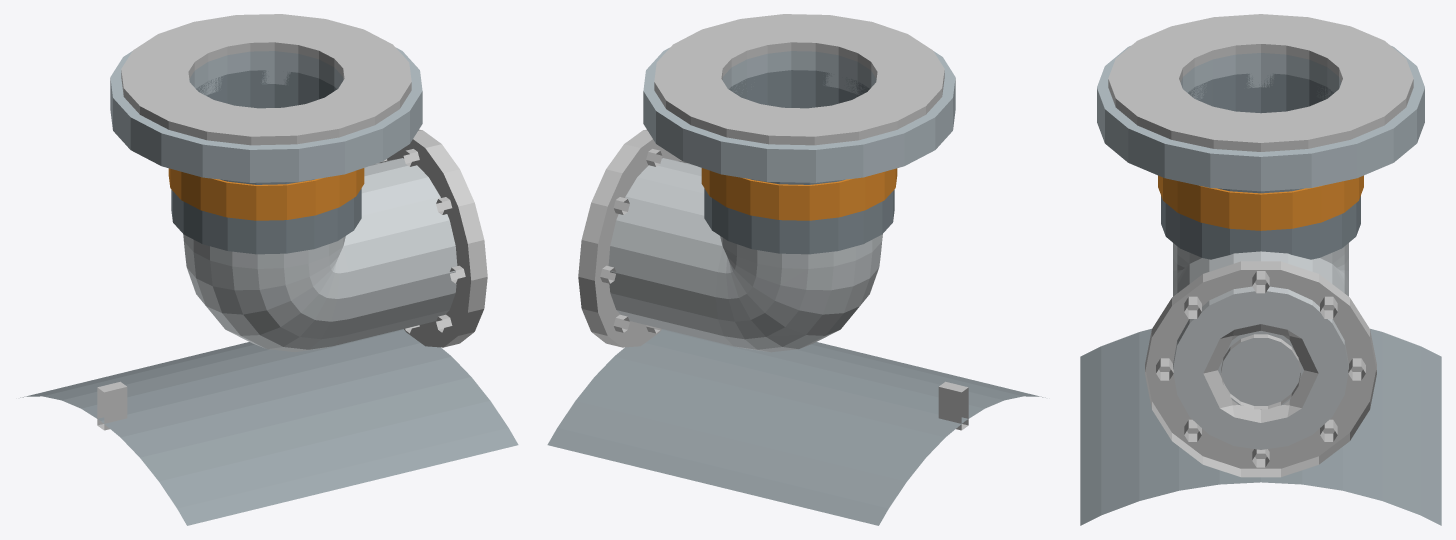
Rendered from cell_69.obj.
3 renders of one model, left to right at view 1: azimuth 30°, elevation 25°; view 2: azimuth 150°, elevation 25°; view 3: azimuth 270°, elevation 25°, orthographic. The views are drawn at different scales.
Bounding box in the file's own units: 1 × 1 × 0.9029.
